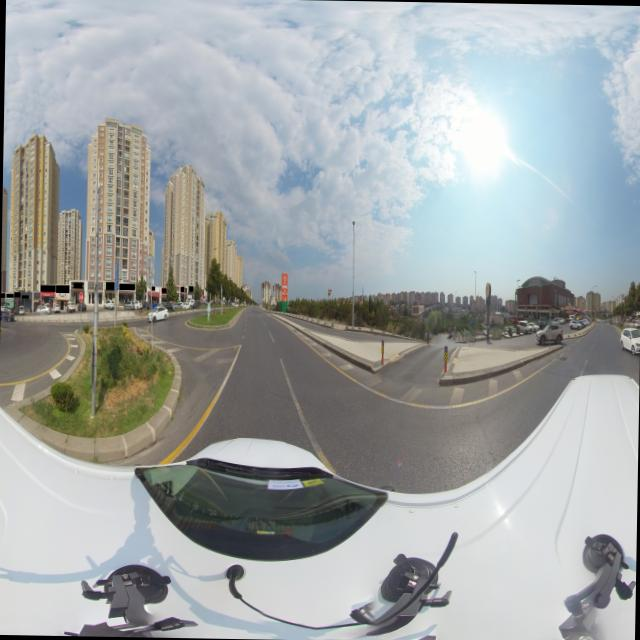SignStore: (40, 285, 55, 292), (119, 283, 134, 290), (56, 285, 69, 293), (105, 282, 114, 290), (73, 282, 82, 288), (14, 292, 20, 297), (189, 286, 193, 292), (180, 286, 184, 292), (6, 294, 13, 297), (21, 295, 28, 298), (162, 288, 166, 293), (0, 293, 5, 297), (151, 286, 155, 290)
